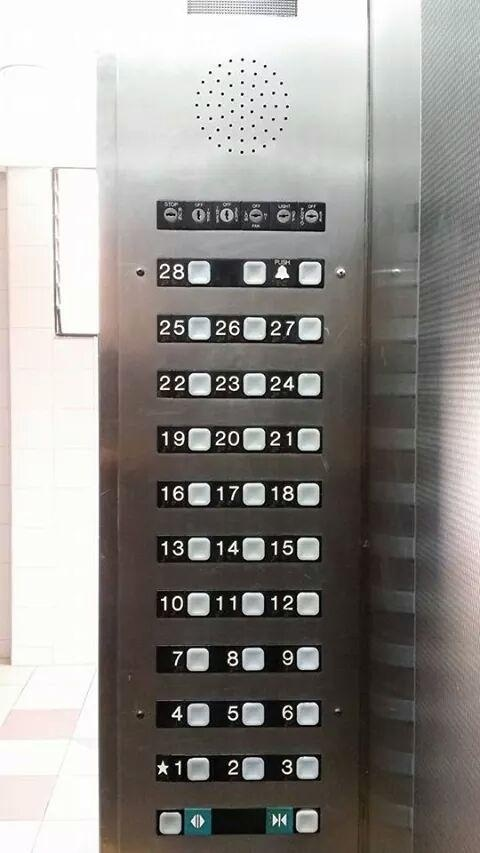10: (153, 587, 212, 620)
11: (212, 586, 267, 618)
12: (266, 586, 322, 619)
13: (155, 533, 212, 564)
14: (211, 532, 266, 563)
15: (267, 533, 323, 563)
16: (155, 478, 212, 510)
17: (213, 478, 268, 509)
18: (266, 477, 324, 510)
19: (155, 422, 214, 455)
2: (212, 751, 269, 784)
20: (214, 422, 268, 454)
21: (268, 423, 324, 454)
22: (154, 367, 214, 400)
23: (214, 368, 269, 400)
24: (269, 368, 324, 401)
25: (155, 311, 215, 344)
26: (213, 313, 270, 344)
27: (269, 312, 326, 345)
28: (155, 256, 217, 288)
3: (271, 751, 323, 783)
4: (154, 697, 214, 730)
5: (214, 697, 268, 730)
6: (268, 697, 323, 730)
7: (153, 642, 213, 674)
8: (213, 641, 269, 675)
9: (268, 641, 323, 674)
alarm: (269, 256, 327, 290)
close: (263, 804, 322, 836)
empty: (214, 254, 271, 288)
keyhole: (154, 198, 189, 232), (185, 198, 215, 233), (212, 198, 242, 233), (241, 199, 271, 234), (271, 199, 301, 234), (296, 200, 326, 235)
open: (154, 806, 213, 838)
s1: (152, 751, 216, 785)
